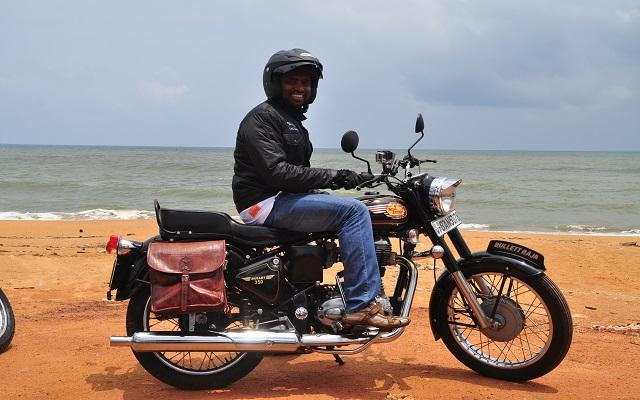motorbike: (103, 113, 572, 391)
